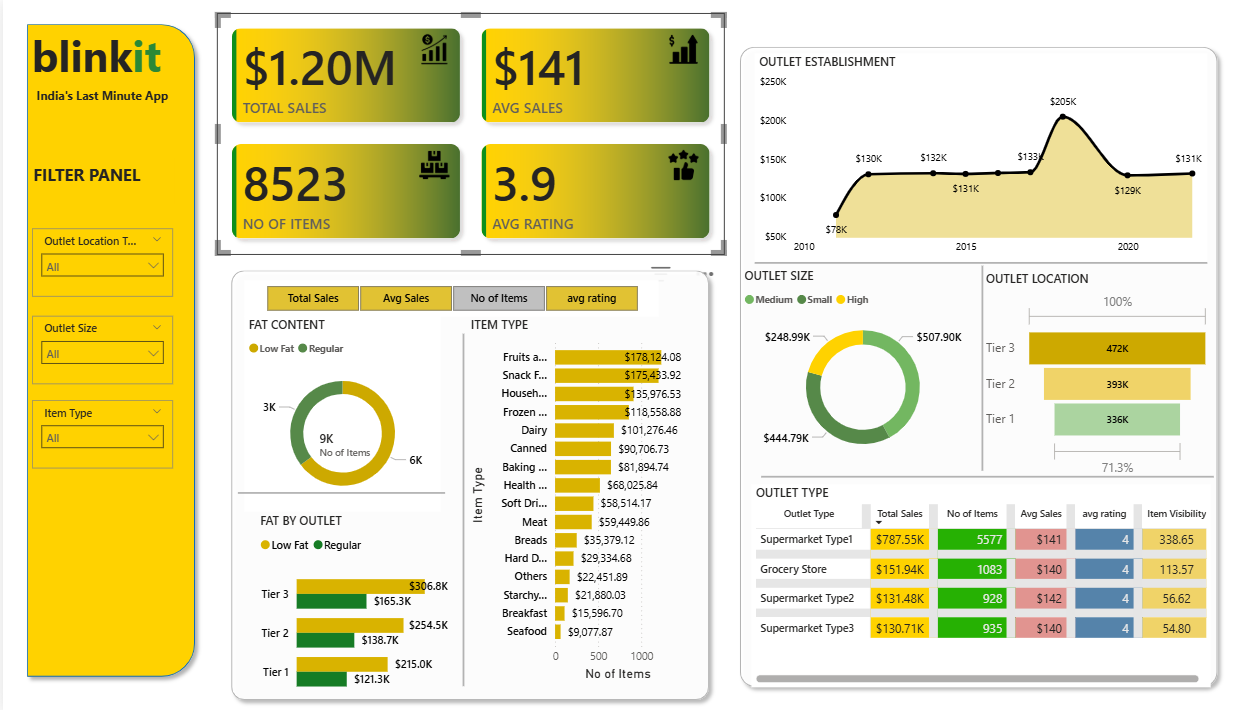

The page's visual inventory and layout, read from the dashboard file:
{"tool":"powerbi","page":{"name":"Page 1","canvas":[1400,800],"ordinal":0},"visuals":[{"type":"shape","box":[18.3,18.3,206.3,750.3],"z":0},{"type":"textbox","box":[26.4,24,189.4,83.9],"z":1000},{"type":"textbox","box":[33.6,93.5,160.6,36],"z":2000},{"type":"cardVisual","fields":{"Data":["BlinkIT Grocery Data.Total Sales","BlinkIT Grocery Data.Avg Sales","BlinkIT Grocery Data.No of Items","BlinkIT Grocery Data.avg rating"]},"box":[239.7,14.4,570.6,270.9],"z":3000},{"type":"shape","box":[246.9,294.9,554,500],"z":4000},{"type":"donutChart","title":"FAT CONTENT","fields":{"Y":["BlinkIT Grocery Data.No of Items"],"Category":["BlinkIT Grocery Data.Item Fat Content"]},"box":[270.9,354.8,220.6,220],"z":5000},{"type":"slicer","fields":{"Values":["Metrics.Metrics"]},"box":[270.9,314.1,465.1,40.8],"z":6000},{"type":"cardVisual","fields":{"Data":["BlinkIT Grocery Data.No of Items"]},"box":[338,469.9,127.1,59.9],"z":7000},{"type":"clusteredBarChart","title":"FAT BY OUTLET","fields":{"Y":["BlinkIT Grocery Data.No of Items"],"Category":["BlinkIT Grocery Data.Outlet Location Type"],"Series":["BlinkIT Grocery Data.Item Fat Content"]},"box":[282.9,575.4,220.6,220.6],"z":8000},{"type":"shape","box":[263.7,544.2,232.6,19.2],"z":9000},{"type":"shape","box":[503.5,374,26.4,395.6],"z":10000},{"type":"barChart","title":"ITEM TYPE","fields":{"Y":["BlinkIT Grocery Data.No of Items"],"Category":["BlinkIT Grocery Data.Item Type"]},"box":[520.2,354.8,258.9,414.8],"z":11000},{"type":"shape","box":[817.5,43.2,553.8,736],"z":12000},{"type":"lineChart","title":"OUTLET ESTABLISHMENT","fields":{"Y":["BlinkIT Grocery Data.Total Sales"],"Category":["BlinkIT Grocery Data.Outlet Establishment Year"]},"box":[843.9,59.9,508.3,235],"z":13000},{"type":"shape","box":[843.9,285.3,508.3,19.2],"z":14000},{"type":"donutChart","title":"OUTLET SIZE","fields":{"Y":["BlinkIT Grocery Data.Total Sales"],"Category":["BlinkIT Grocery Data.Outlet Size"]},"box":[827.1,299.7,275.7,225.4],"z":15000},{"type":"shape","box":[1083.6,297.3,31.2,230.2],"z":16000},{"type":"funnel","title":"OUTLET LOCATION","fields":{"Category":["BlinkIT Grocery Data.Outlet Location Type"],"Y":["Sum(BlinkIT Grocery Data.Sales)"]},"box":[1098,304.5,261.3,237.3],"z":17000},{"type":"shape","box":[851.1,525,508.3,19.2],"z":18000},{"type":"pivotTable","title":"OUTLET TYPE","fields":{"Rows":["BlinkIT Grocery Data.Outlet Type"],"Values":["BlinkIT Grocery Data.Total Sales","BlinkIT Grocery Data.No of Items","BlinkIT Grocery Data.Avg Sales","BlinkIT Grocery Data.avg rating","Sum(BlinkIT Grocery Data.Item Visibility)"]},"box":[839.1,544.2,515.5,227.8],"z":19000},{"type":"slicer","fields":{"Values":["BlinkIT Grocery Data.Outlet Location Type"]},"box":[33.6,256.5,158.2,76.7],"z":20000},{"type":"slicer","fields":{"Values":["BlinkIT Grocery Data.Outlet Size"]},"box":[33.6,354.8,158.2,76.7],"z":21000},{"type":"slicer","fields":{"Values":["BlinkIT Grocery Data.Item Type"]},"box":[33.6,448.3,158.2,76.7],"z":22000},{"type":"textbox","box":[28.8,177.4,163,50.3],"z":23000}]}

Visuals, with their boxes in screenshot pixels (x1, y1, x2, y2), scaled from the page's 1400x800 canvas onto the 1248x710 screenshot:
shape: crop(16, 16, 200, 682)
textbox: crop(24, 21, 192, 96)
textbox: crop(30, 83, 173, 115)
cardVisual - BlinkIT Grocery Data.Total Sales x BlinkIT Grocery Data.Avg Sales: crop(214, 13, 722, 253)
shape: crop(220, 262, 714, 705)
"FAT CONTENT" donutChart: crop(241, 315, 438, 510)
slicer - Metrics.Metrics: crop(241, 279, 656, 315)
cardVisual - BlinkIT Grocery Data.No of Items: crop(301, 417, 415, 470)
"FAT BY OUTLET" clusteredBarChart: crop(252, 511, 449, 706)
shape: crop(235, 483, 442, 500)
shape: crop(449, 332, 472, 683)
"ITEM TYPE" barChart: crop(464, 315, 695, 683)
shape: crop(729, 38, 1222, 692)
"OUTLET ESTABLISHMENT" lineChart: crop(752, 53, 1205, 262)
shape: crop(752, 253, 1205, 270)
"OUTLET SIZE" donutChart: crop(737, 266, 983, 466)
shape: crop(966, 264, 994, 468)
"OUTLET LOCATION" funnel: crop(979, 270, 1212, 481)
shape: crop(759, 466, 1212, 483)
"OUTLET TYPE" pivotTable: crop(748, 483, 1208, 685)
slicer - BlinkIT Grocery Data.Outlet Location Type: crop(30, 228, 171, 296)
slicer - BlinkIT Grocery Data.Outlet Size: crop(30, 315, 171, 383)
slicer - BlinkIT Grocery Data.Item Type: crop(30, 398, 171, 466)
textbox: crop(26, 157, 171, 202)
